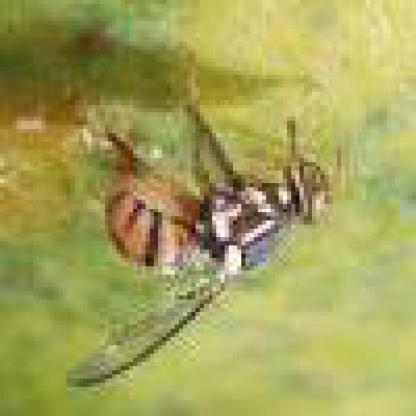fruit fly: (69, 61, 340, 384)
